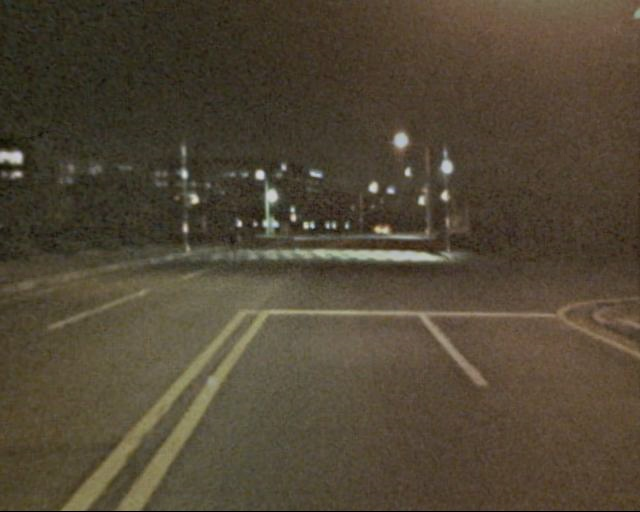person: (223, 224, 242, 269)
